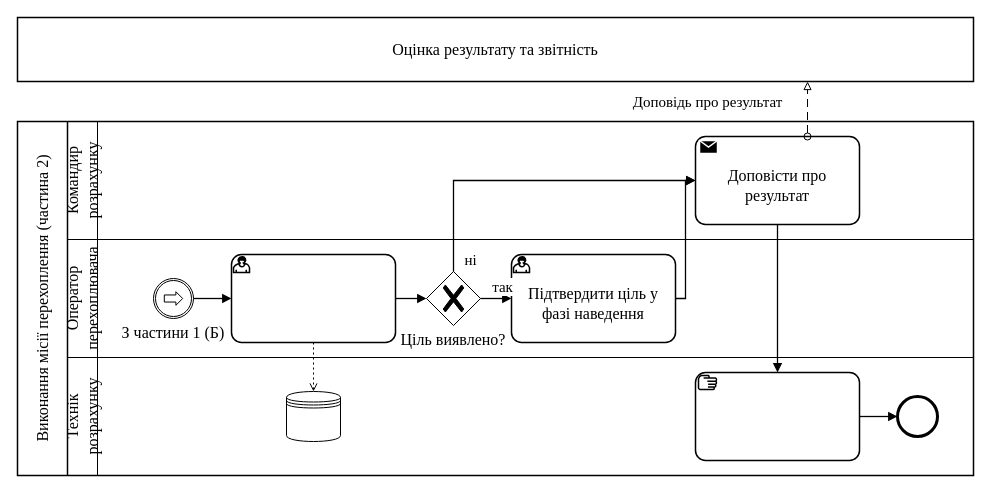
This 992x497 diagram has some shape labels left out. Here are the shapes that lost their labels. From the top down, the centre of each, then its label:
point 313,298: Здійснити пуск і вивести на ціль
point 313,416: Архів телеметрії
point 777,416: Повернути або списати перехоплювач
point 917,416: Місію завершено
